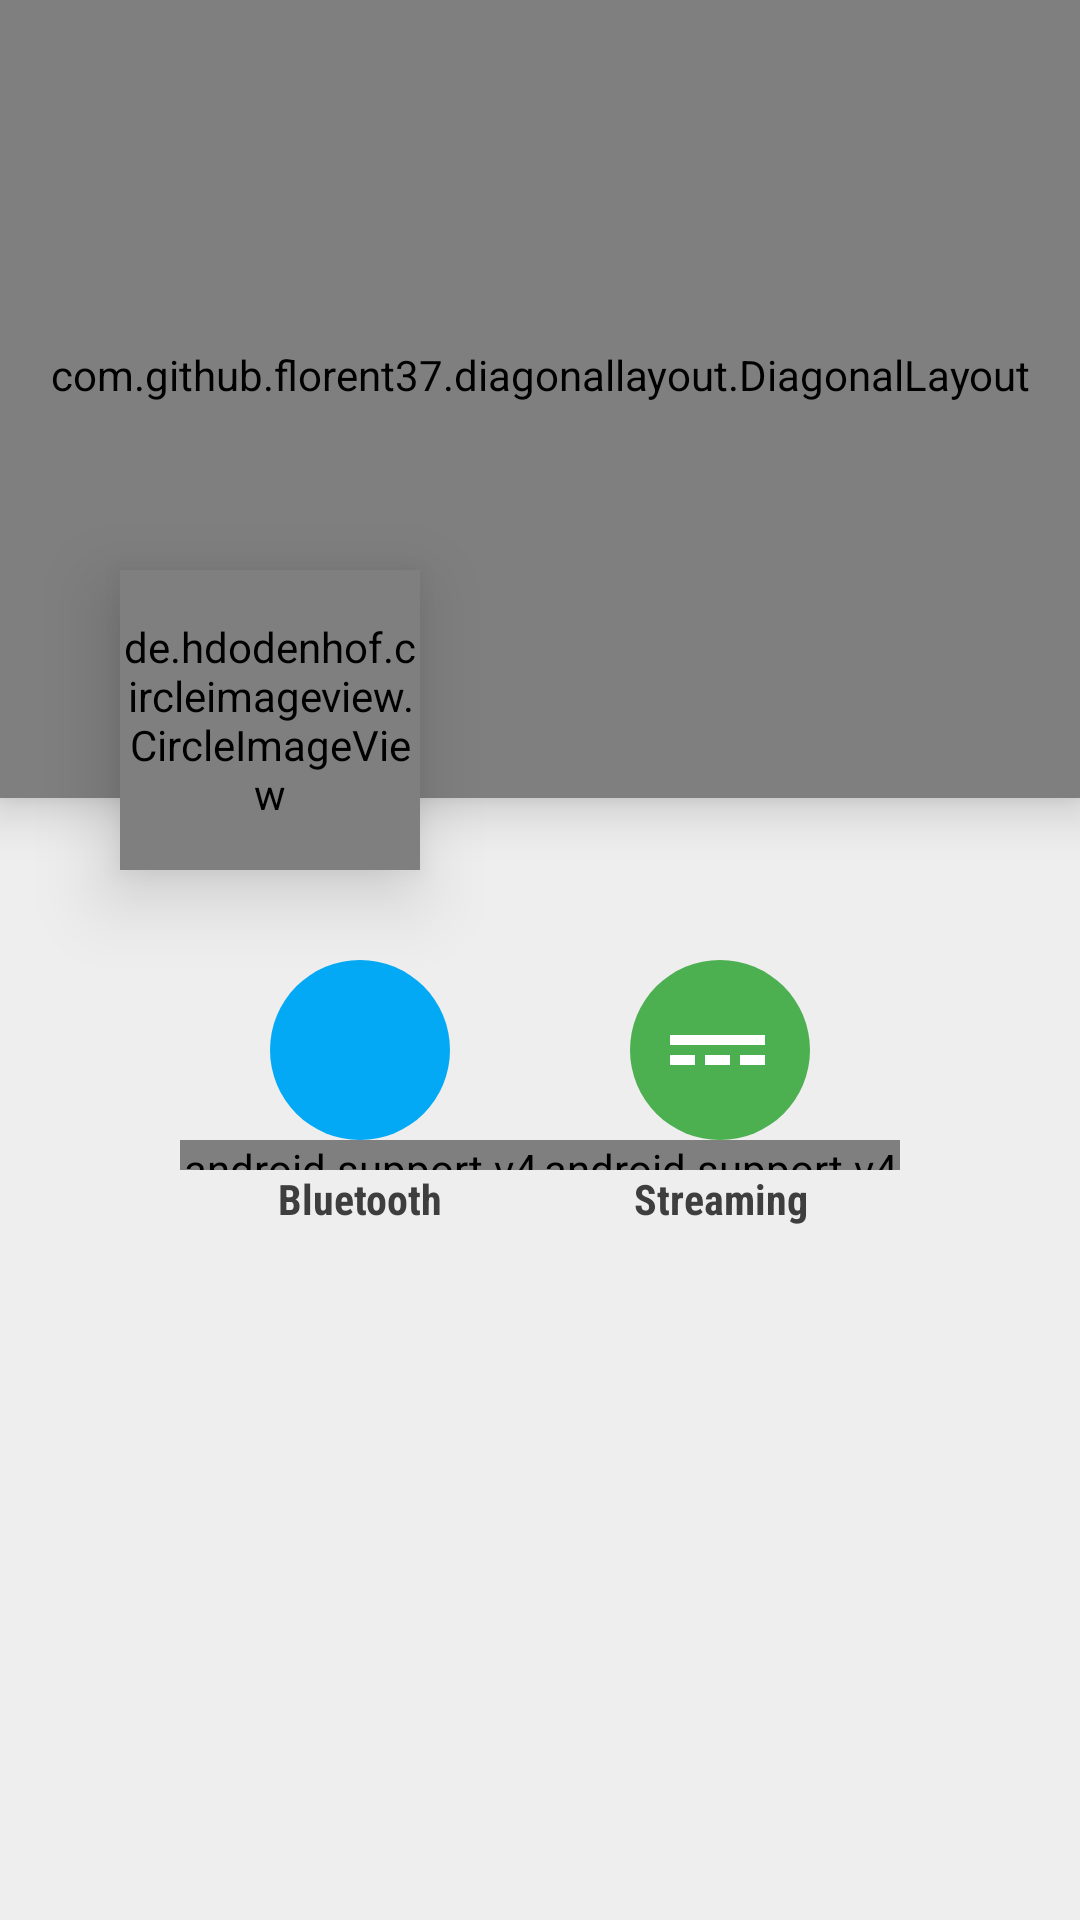

Where to tap for icons on this 1080px x 1920px app screen, as (x=x, y=y):
power input: (x=717, y=1050)
